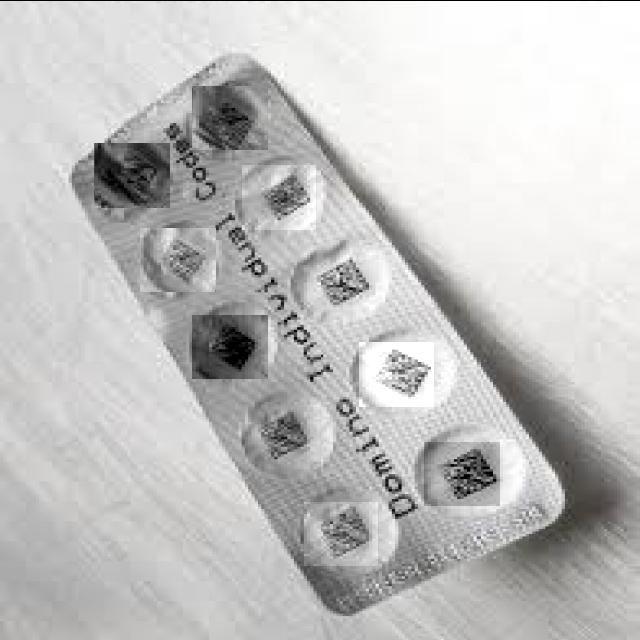DataMatrix: (94, 142, 170, 207), (300, 249, 376, 314), (359, 341, 434, 406), (192, 314, 268, 378), (140, 227, 216, 291), (192, 85, 268, 149), (424, 441, 500, 505), (242, 164, 316, 229), (245, 404, 320, 468), (304, 501, 378, 565)
